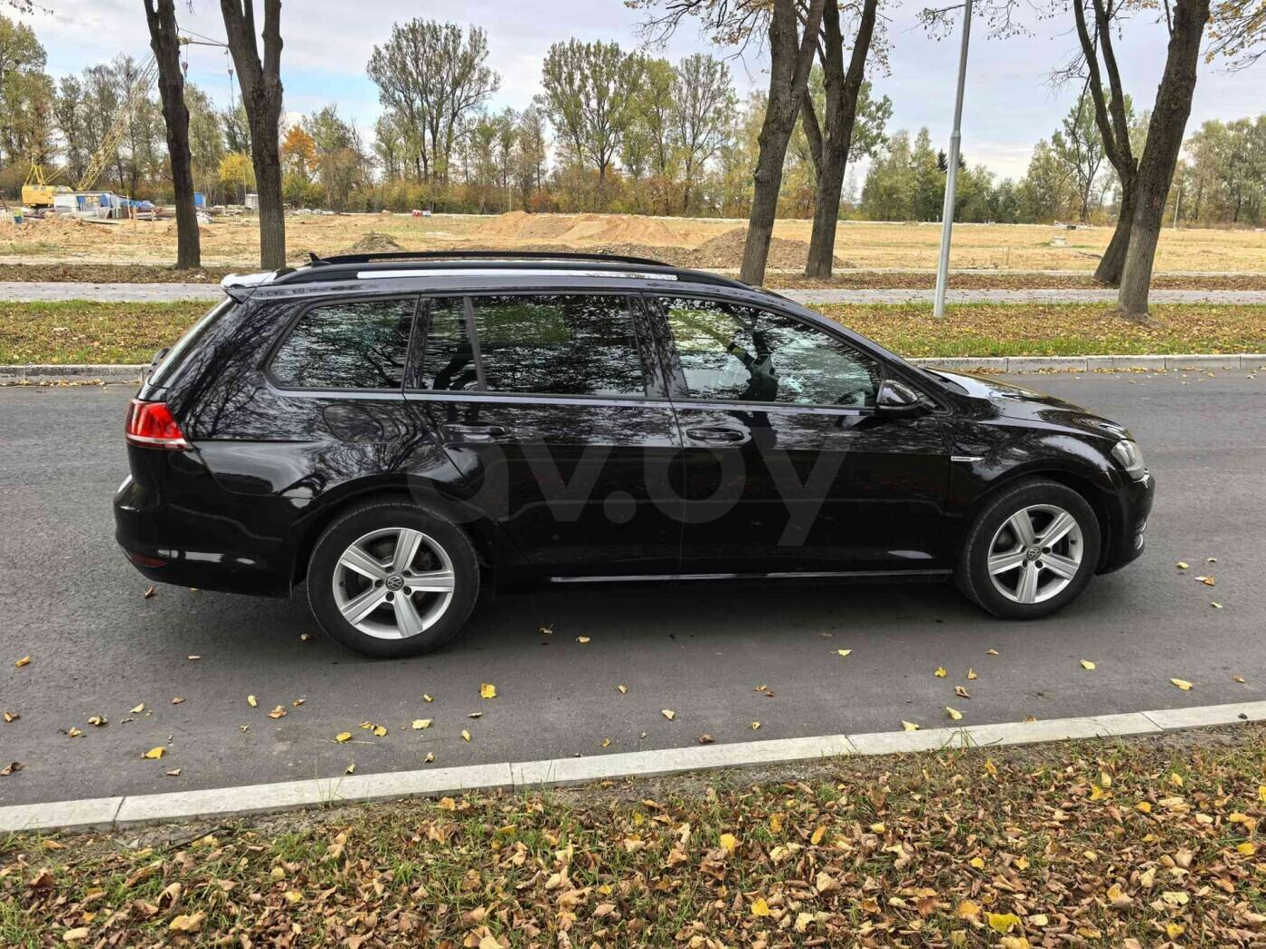Golf_2012-2017: (105, 253, 1151, 653)
